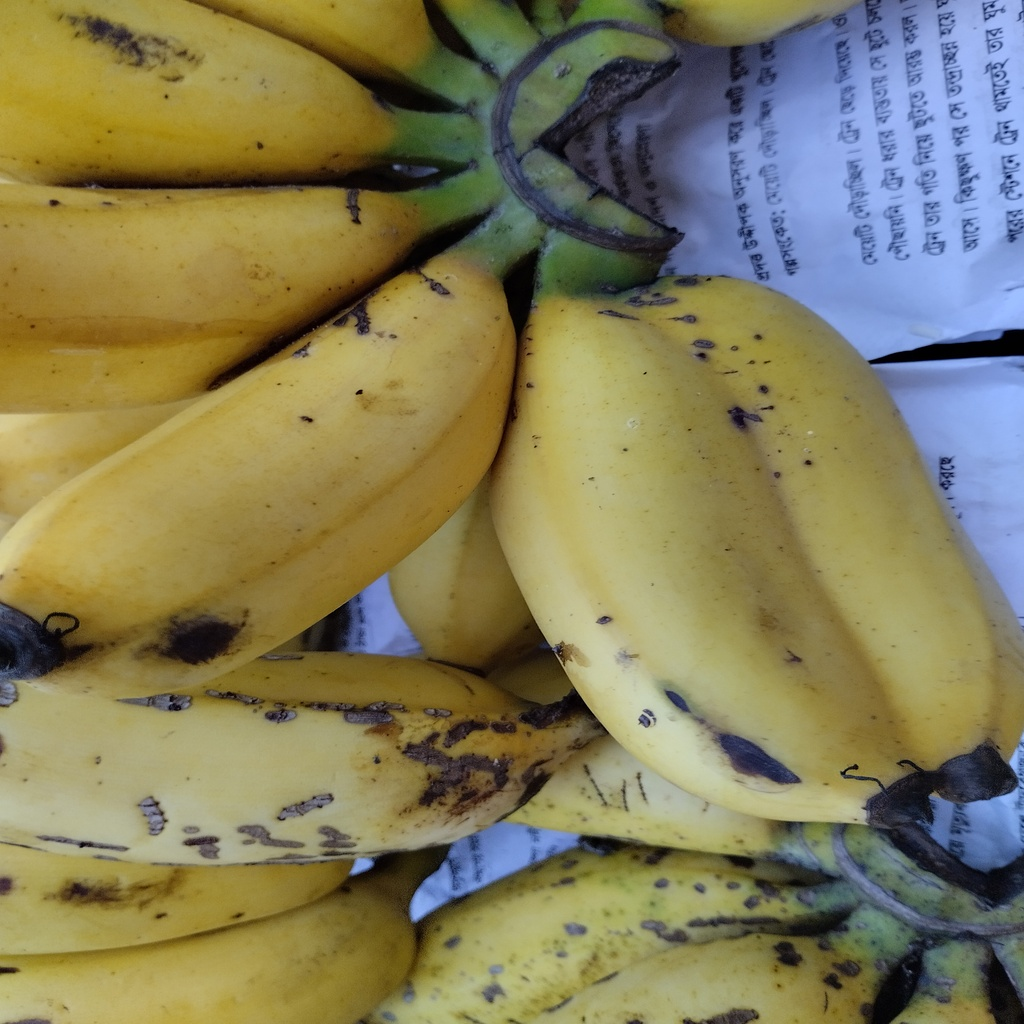healthy: (12, 266, 512, 677)
unhealthy: (507, 267, 1022, 830), (1, 648, 551, 865)
